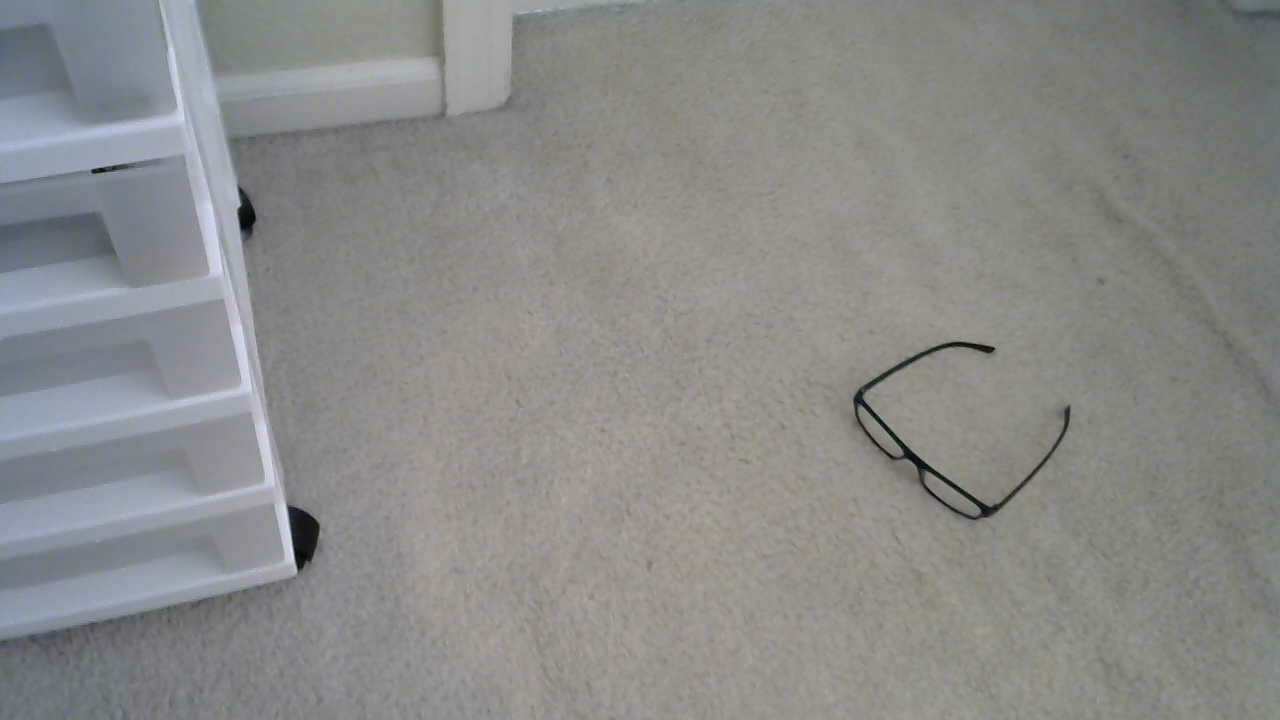Glasses: (841, 291, 1099, 561)
